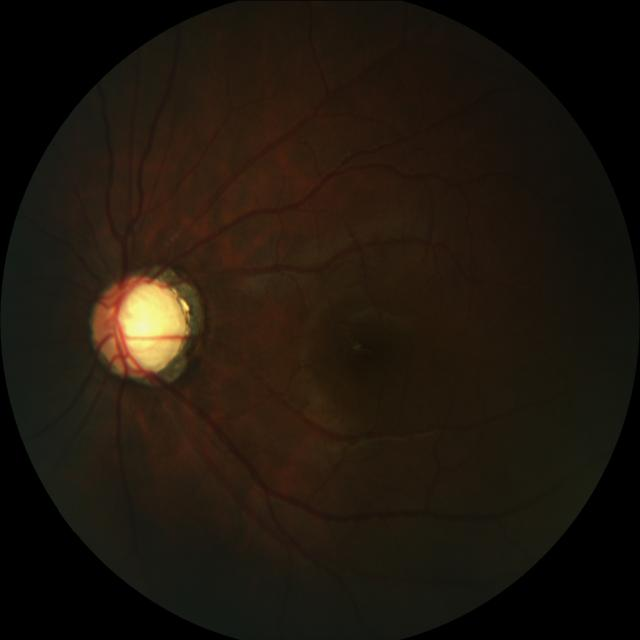OC: (118, 278, 186, 370)
OD: (94, 273, 190, 376)
